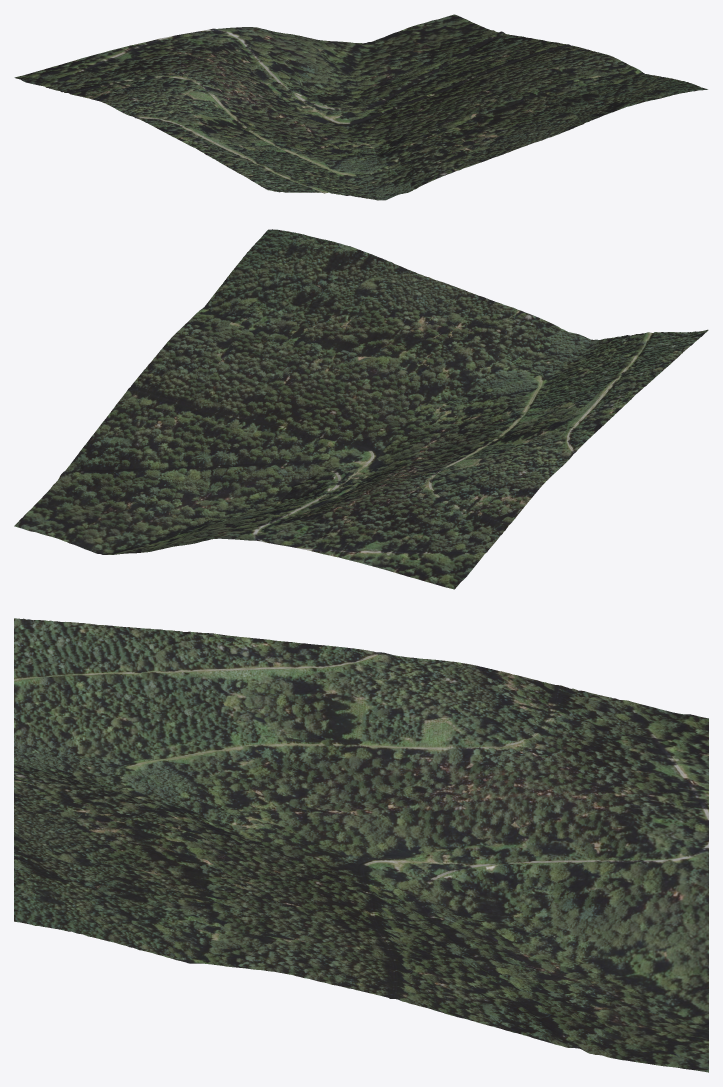
Rendered from terrain_1_3.glb.
3 renders of one model, top to bottom at view 1: azimuth 30°, elevation 25°; view 2: azimuth 150°, elevation 25°; view 3: azimuth 270°, elevation 25°, orthographic. The views are drawn at different scales.
Visible parts, largest first — view 1: geometry_0; view 2: geometry_0; view 3: geometry_0.
Part boxes in pixels (box(x1,y1,x2,y2)): geometry_0: box(14, 14, 707, 200); geometry_0: box(14, 229, 708, 589); geometry_0: box(14, 618, 708, 1072).
Size of the model in its own units: 499 by 135 by 499.
Materials: 1 (1 with a texture image).
